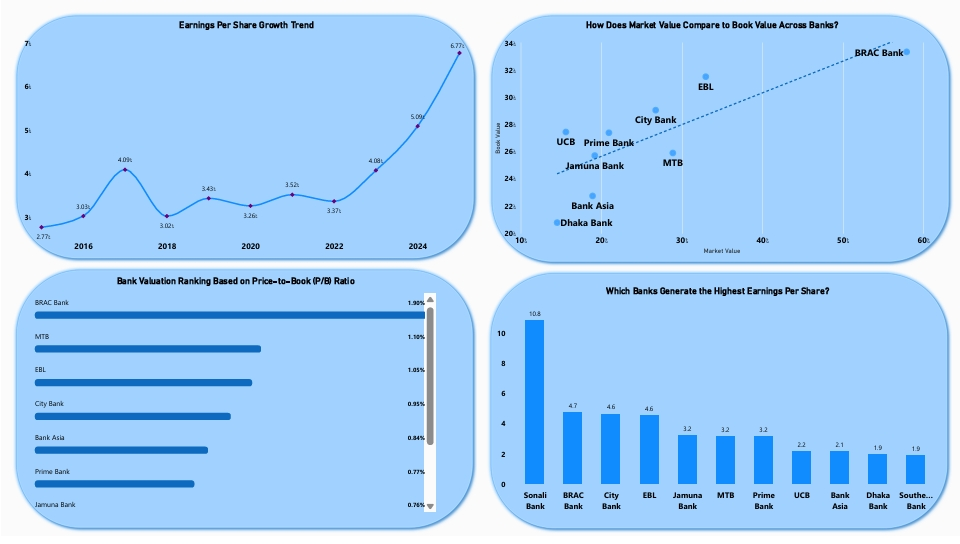

The page's visual inventory and layout, read from the dashboard file:
{"tool":"powerbi","page":{"name":"Market Performance Analysis","canvas":[1920,1080],"ordinal":4},"visuals":[{"type":"lineChart","title":"Earnings Per Share Growth Trend","fields":{"Category":["Market_Data (2).Year"],"Y":["Avg(Market_Data (2).EPS)"]},"box":[27.5,30,922.5,517.5],"z":0},{"type":"scatterChart","title":"How Does Market Value Compare to Book Value Across Banks?","fields":{"Category":["Bank_Master.Short_Name"],"X":["Avg(Market_Data_Refined.Market_Value_Per_Share)"],"Y":["Avg(Market_Data_Refined.Book_Value_Per_Share)"]},"box":[970,30,922.5,517.5],"z":1000},{"type":"columnChart","title":"Which Banks Generate the Highest Earnings Per Share?","fields":{"Category":["Bank_Master.Short_Name"],"Y":["Avg(Market_Data_Refined.EPS)"]},"box":[970,562.5,922.5,517.5],"z":2000},{"type":"rankedBarChartBA58762B02B74CF1B1198265AE813C13","title":"Bank Valuation Ranking Based on Price-to-Book (P/B) Ratio","fields":{"category":["Bank_Master.Short_Name"],"value":["Avg(Market_Data_Refined.PB_Ratio)"]},"box":[27.5,562.5,922.5,517.5],"z":3000}]}

Visuals, with their boxes in screenshot pixels (x1, y1, x2, y2), scaled from the page's 1920x1080 canvas onto the 960x544 screenshot:
"Earnings Per Share Growth Trend" lineChart: BBox(14, 15, 475, 276)
"How Does Market Value Compare to Book Value Across Banks?" scatterChart: BBox(485, 15, 946, 276)
"Which Banks Generate the Highest Earnings Per Share?" columnChart: BBox(485, 283, 946, 543)
"Bank Valuation Ranking Based on Price-to-Book (P/B) Ratio" rankedBarChartBA58762B02B74CF1B1198265AE813C13: BBox(14, 283, 475, 543)
